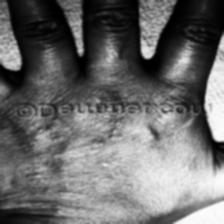Non-Cancerous Skin Condition: (23, 120, 129, 188)
